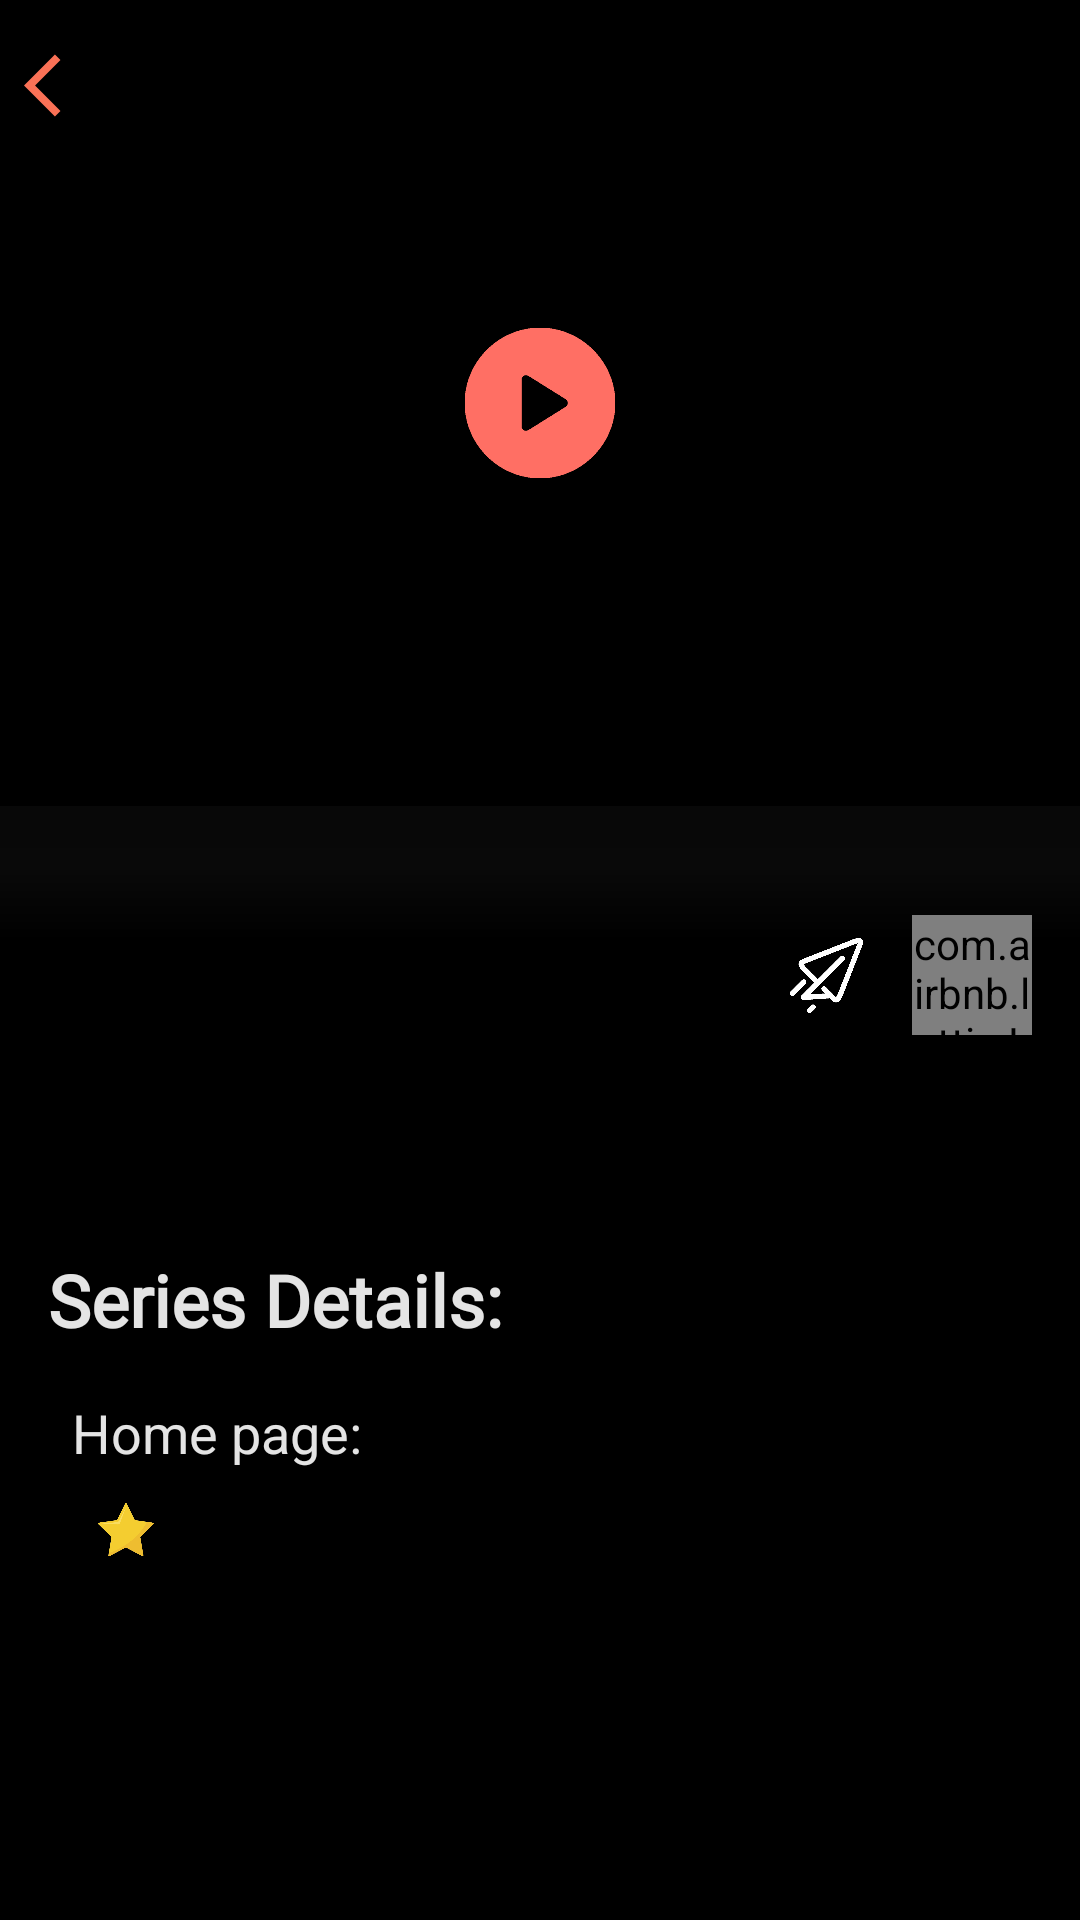

Icon click points for this 1080px×1920px phone screenshot, format point (x, y):
back: point (42, 85)
send: point (826, 975)
star: point (126, 1529)
